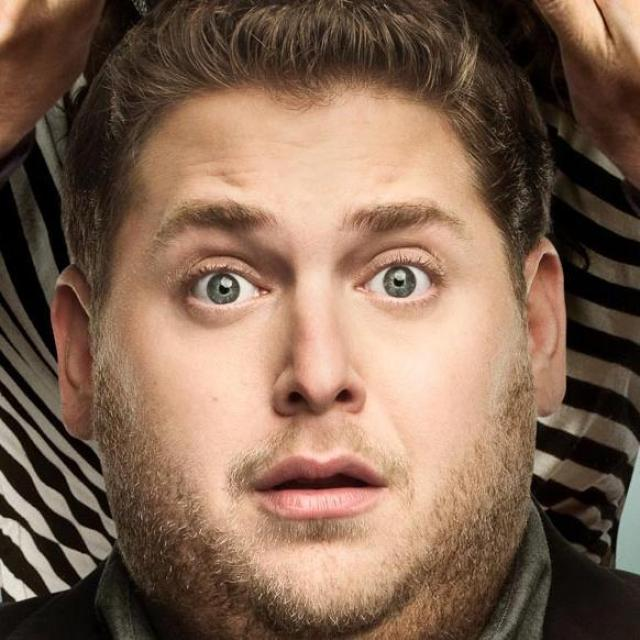surprised: (88, 133, 543, 622)
